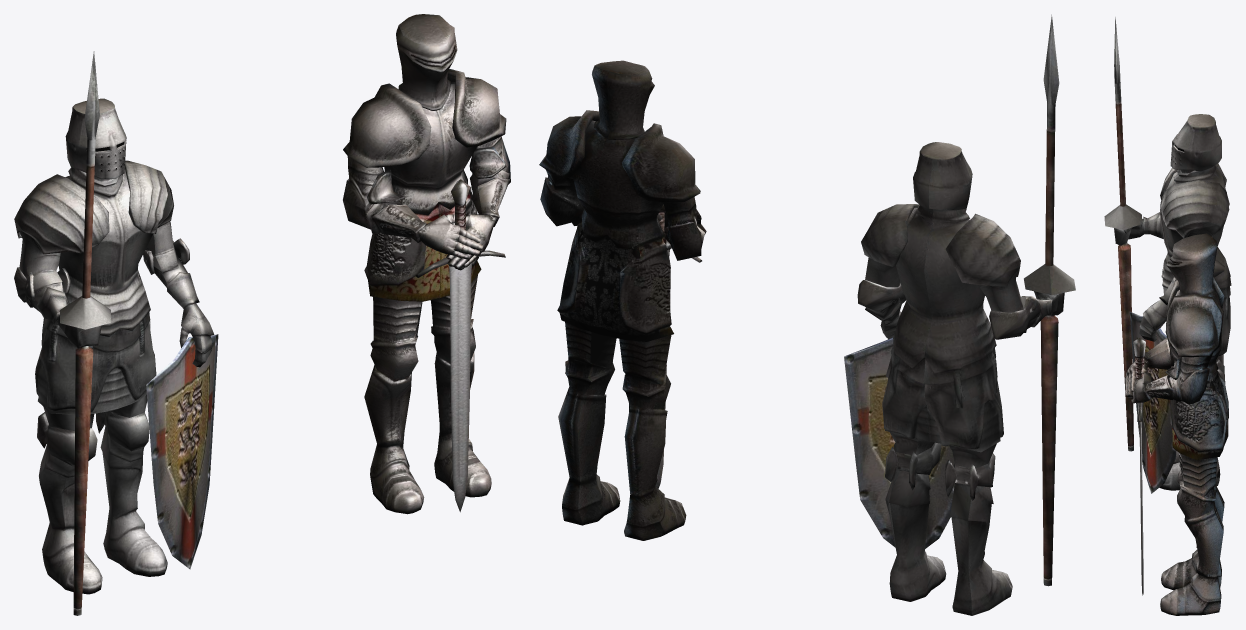
Rendered from twoKnights.fbx.
The picture shows the model from 3 angles, left to right: view 1: azimuth 30°, elevation 25°; view 2: azimuth 150°, elevation 25°; view 3: azimuth 270°, elevation 25°; orthographic projection. The views are drawn at different scales.
Visible parts, largest first — view 1: Box04, Box03; view 2: Box04, Box03; view 3: Box03, Box04.
Boxes of the visible parts, left/top/right/bottom form: Box04: left=14, top=51, right=218, bottom=615; Box03: left=343, top=14, right=510, bottom=514; Box04: left=844, top=14, right=1075, bottom=615; Box03: left=539, top=60, right=706, bottom=540; Box03: left=1125, top=233, right=1228, bottom=615; Box04: left=1104, top=17, right=1231, bottom=493.
Bounding box in the file's own units: 133 × 146 × 38.37.
Materials: 2 (2 with a texture image).
